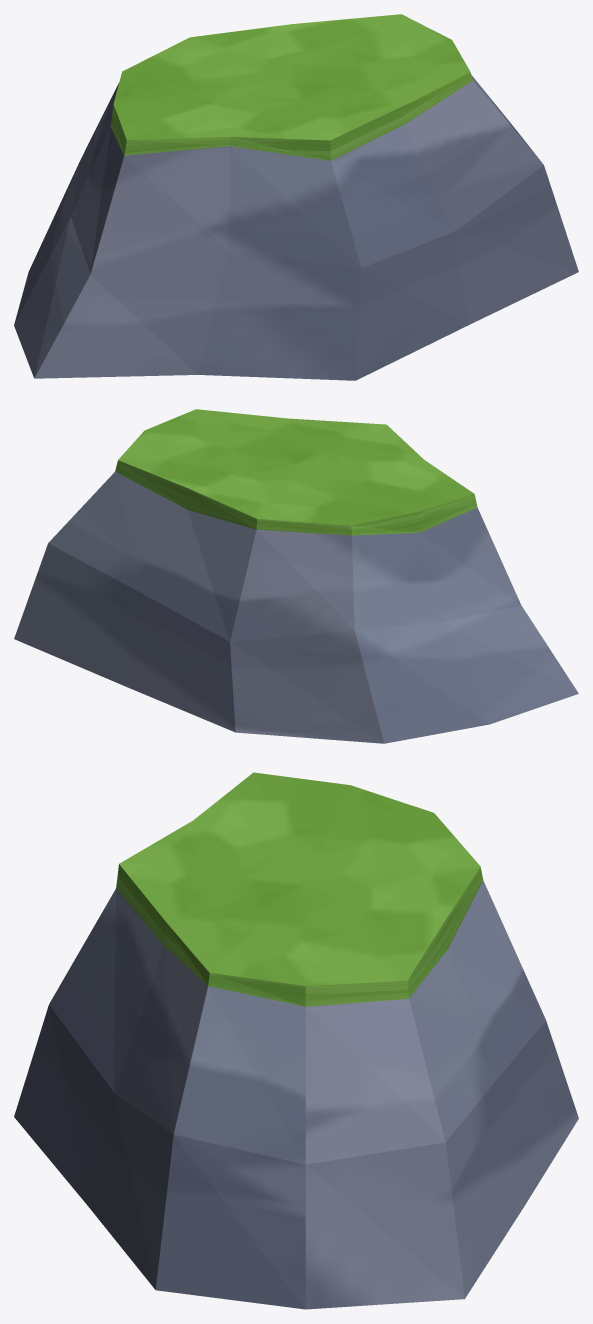
The model's file is island.glb.
3 renders of one model, top to bottom at view 1: azimuth 30°, elevation 25°; view 2: azimuth 150°, elevation 25°; view 3: azimuth 270°, elevation 25°, orthographic. The views are drawn at different scales.
Parts seen in each view (by area): view 1: beach_island; view 2: beach_island; view 3: beach_island.
Part boxes in pixels (<box>): beach_island: <box>14,14,578,380</box>; beach_island: <box>14,409,578,743</box>; beach_island: <box>14,772,578,1309</box>.
Size of the model in its own units: 10 by 3.6 by 7.
Materials: 1 (1 with a texture image).
